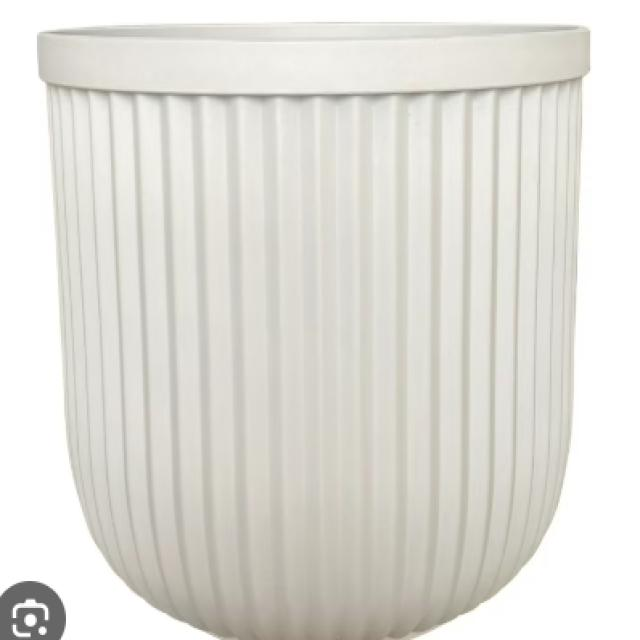Plant Pot: (26, 12, 595, 640)
